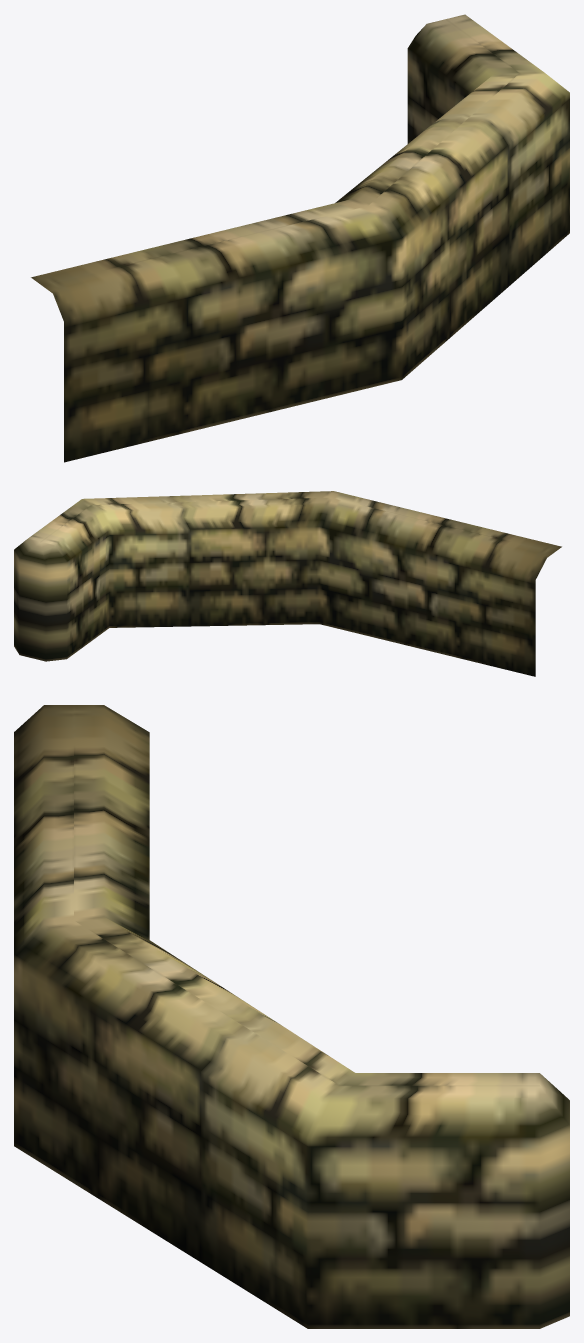
The model's file is Mission12_MainGate_Bunker01.glb.
3 renders of one model, top to bottom at view 1: azimuth 30°, elevation 25°; view 2: azimuth 150°, elevation 25°; view 3: azimuth 270°, elevation 25°, orthographic. The views are drawn at different scales.
Parts seen in each view (by area): view 1: MISSION12_MAINGATE_BUNKER01; view 2: MISSION12_MAINGATE_BUNKER01; view 3: MISSION12_MAINGATE_BUNKER01.
Part boxes in pixels (x1=…): MISSION12_MAINGATE_BUNKER01: x1=31, y1=14, x2=569, y2=462; MISSION12_MAINGATE_BUNKER01: x1=14, y1=491, x2=561, y2=676; MISSION12_MAINGATE_BUNKER01: x1=14, y1=705, x2=569, y2=1328.
Size of the model in its own units: 4 by 1 by 2.31.
1 material, 1 textured.
